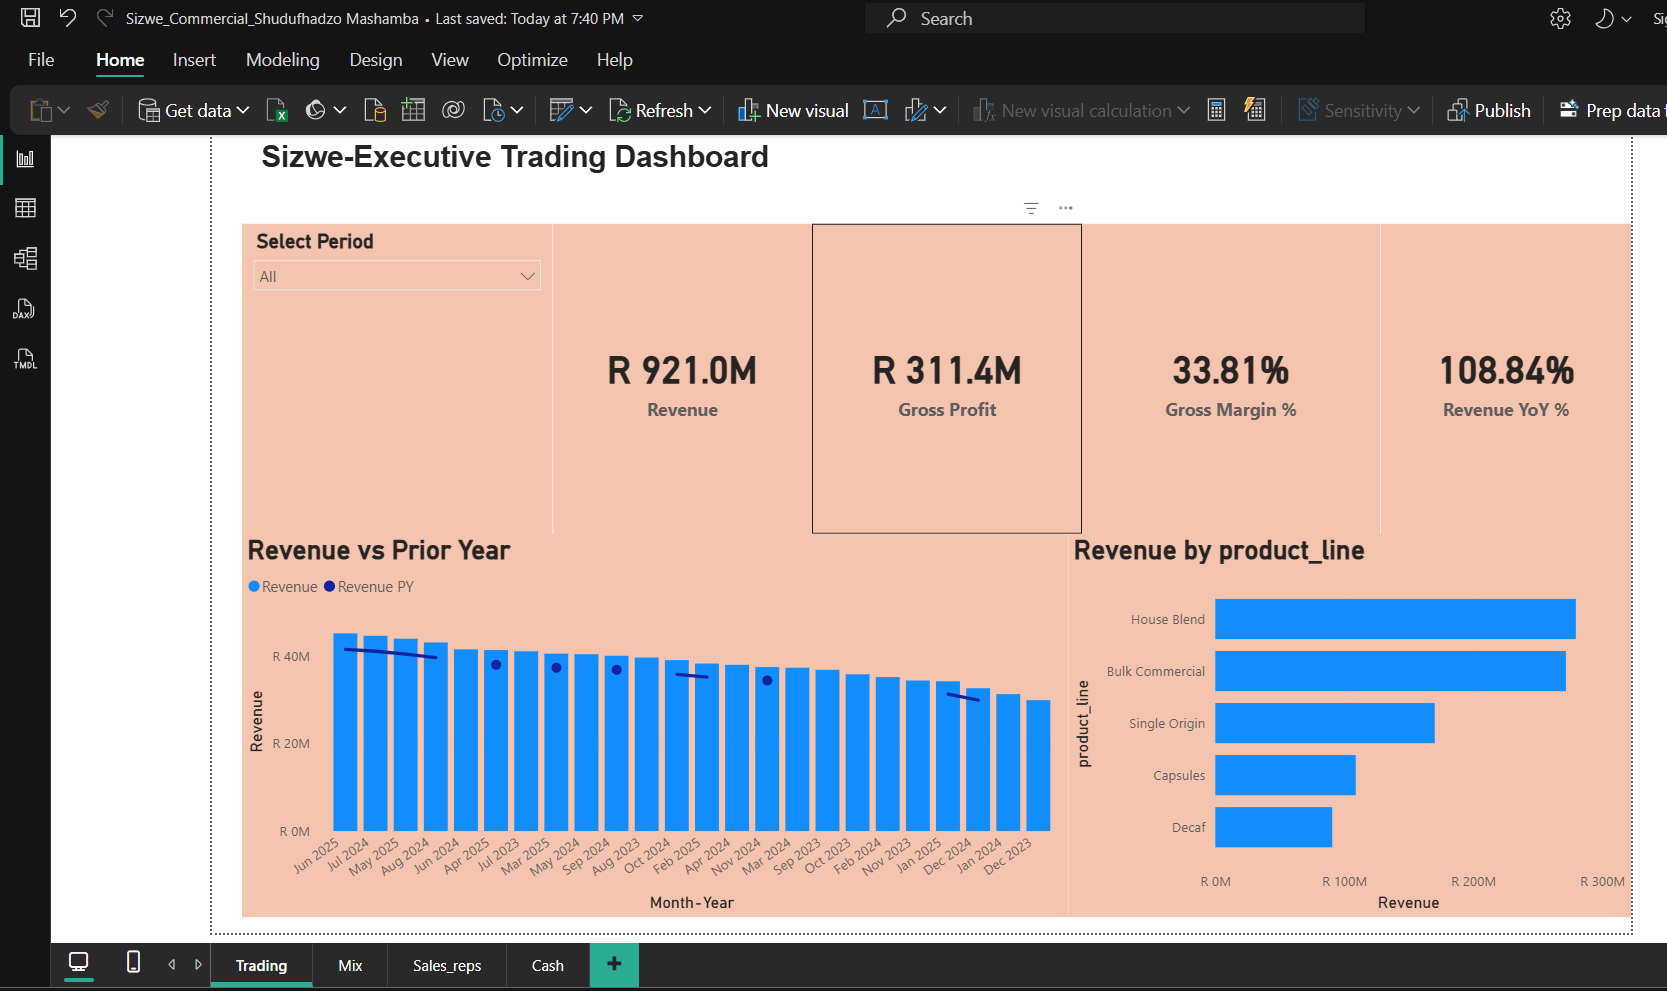

What the dashboard file says about the page in this screenshot:
{"tool":"powerbi","page":{"name":"Trading","canvas":[1280,720],"ordinal":0},"visuals":[{"type":"slicer","fields":{"Values":["DimDate.Month-Year"]},"box":[27.4,79.6,279.9,279.9],"z":0},{"type":"card","fields":{"Values":["sizwe_sales_lines.Revenue"]},"box":[307.4,79.6,233.3,279.9],"z":1000},{"type":"card","fields":{"Values":["sizwe_sales_lines.Gross Profit"]},"box":[540.7,79.6,244.3,279.9],"z":2000},{"type":"textbox","box":[39.8,0,620.2,41.2],"z":3000},{"type":"card","fields":{"Values":["sizwe_sales_lines.Gross Margin %"]},"box":[784.9,79.6,269,279.9],"z":4000},{"type":"card","fields":{"Values":["sizwe_sales_lines.Revenue YoY %"]},"box":[1053.9,79.6,226.4,279.9],"z":5000},{"type":"clusteredBarChart","fields":{"Category":["sizwe_products.product_line"],"Y":["sizwe_sales_lines.Revenue"]},"box":[772.6,359.5,507.7,345.8],"z":6000},{"type":"lineClusteredColumnComboChart","title":"Revenue vs Prior Year","fields":{"Category":["DimDate.Month-Year"],"Y":["sizwe_sales_lines.Revenue"],"Y2":["sizwe_sales_lines.Revenue PY"]},"box":[27.4,359.5,745.1,345.8],"z":7000}]}

Visuals, with their boxes on the page's 1280x720 design canvas (x1, y1, x2, y2). These are canvas units, not pixel positions in the 1667x991 screenshot, which may show the page scaled, cropped or inside an application window:
slicer - DimDate.Month-Year: (left=27, top=80, right=307, bottom=360)
card - sizwe_sales_lines.Revenue: (left=307, top=80, right=541, bottom=360)
card - sizwe_sales_lines.Gross Profit: (left=541, top=80, right=785, bottom=360)
textbox: (left=40, top=0, right=660, bottom=41)
card - sizwe_sales_lines.Gross Margin %: (left=785, top=80, right=1054, bottom=360)
card - sizwe_sales_lines.Revenue YoY %: (left=1054, top=80, right=1280, bottom=360)
clusteredBarChart - sizwe_products.product_line x sizwe_sales_lines.Revenue: (left=773, top=360, right=1280, bottom=705)
"Revenue vs Prior Year" lineClusteredColumnComboChart: (left=27, top=360, right=772, bottom=705)
